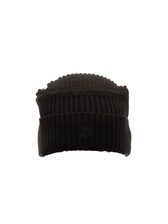other: (31, 73, 136, 159)
